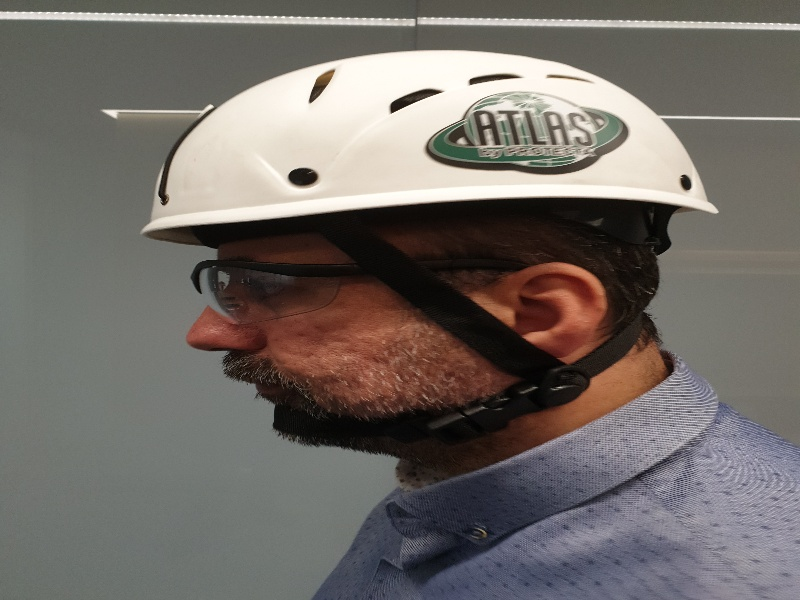Baret: (146, 49, 718, 229)
Gozluk: (188, 251, 535, 328)
